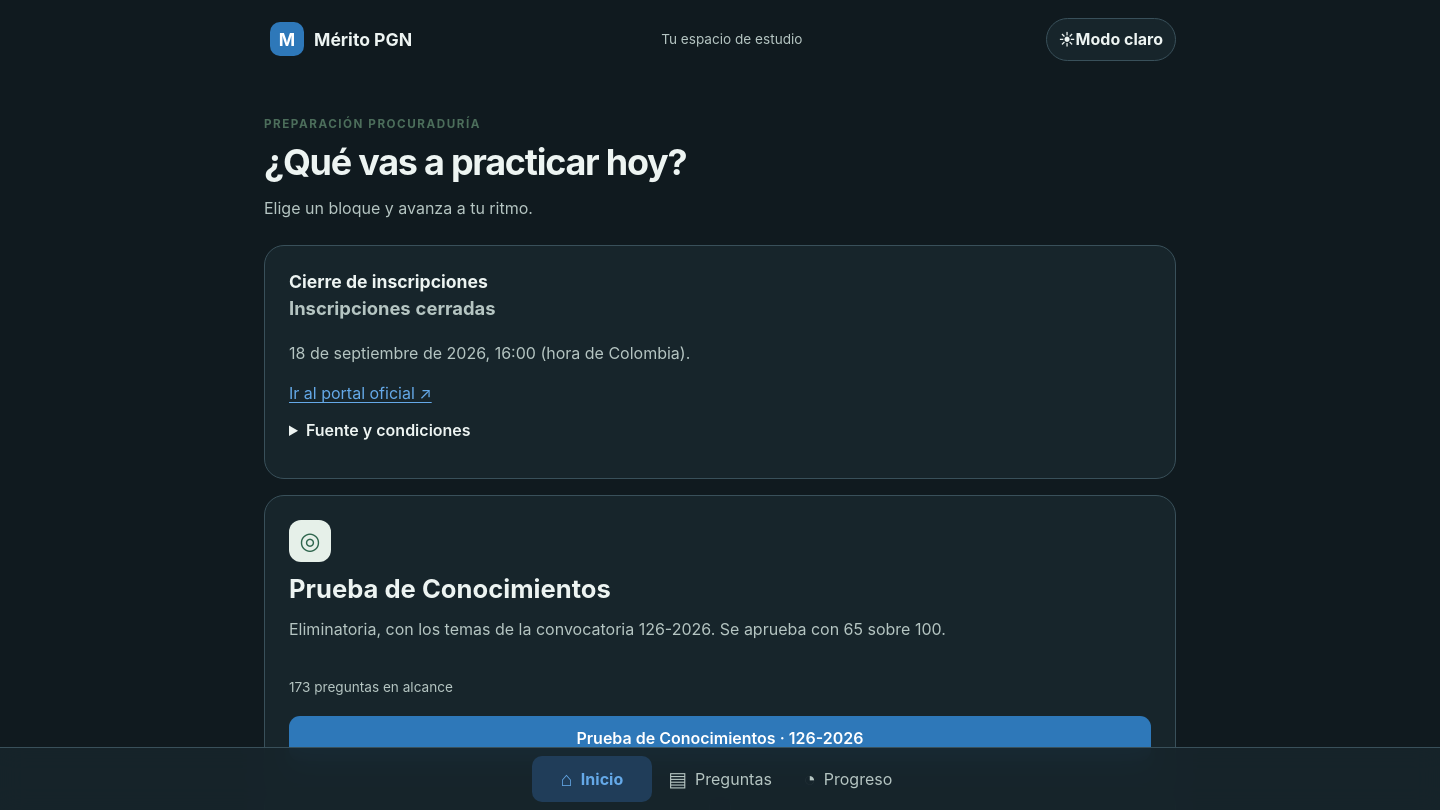
estudio y simuladores móviles › rotula el formato como no confirmado cuando el perfil viene en null
Click the button "Prueba de Conocimientos · 126-2026" at coordinates (720, 738), box [289,716,1151,761]
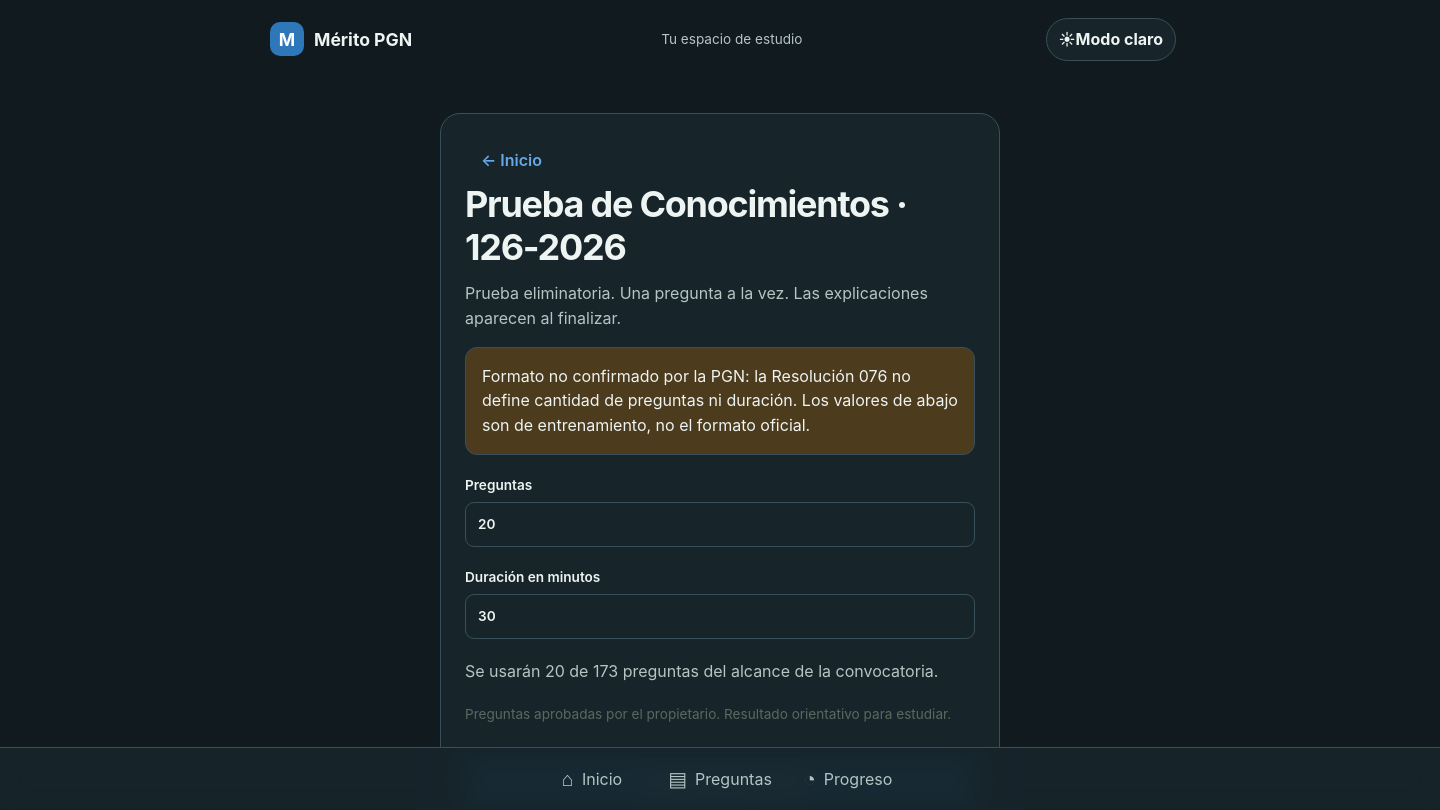
Now the number field labelled "Preguntas" holds "20", box [465,502,975,547]
Now the number field labelled "Duración en minutos" holds "30", box [465,594,975,639]
Now the text "Formato no confirmado por la PGN" is shown, box [482,366,958,435]
